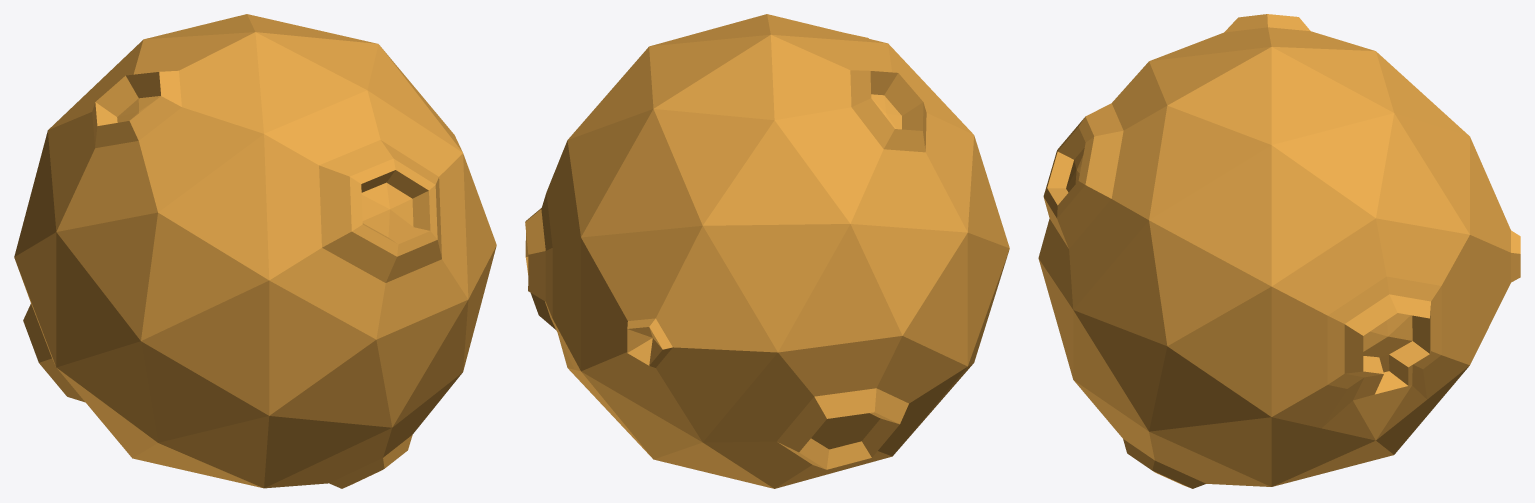
Rendered from moon.fbx.
3 renders of one model, left to right at view 1: azimuth 30°, elevation 25°; view 2: azimuth 150°, elevation 25°; view 3: azimuth 270°, elevation 25°, orthographic. The views are drawn at different scales.
Parts seen in each view (by area): view 1: moon; view 2: moon; view 3: moon.
Part boxes in pixels (<box>): moon: <box>14,14,496,488</box>; moon: <box>525,14,1009,488</box>; moon: <box>1038,14,1520,488</box>.
Size of the model in its own units: 9.54 by 10 by 10.34.
